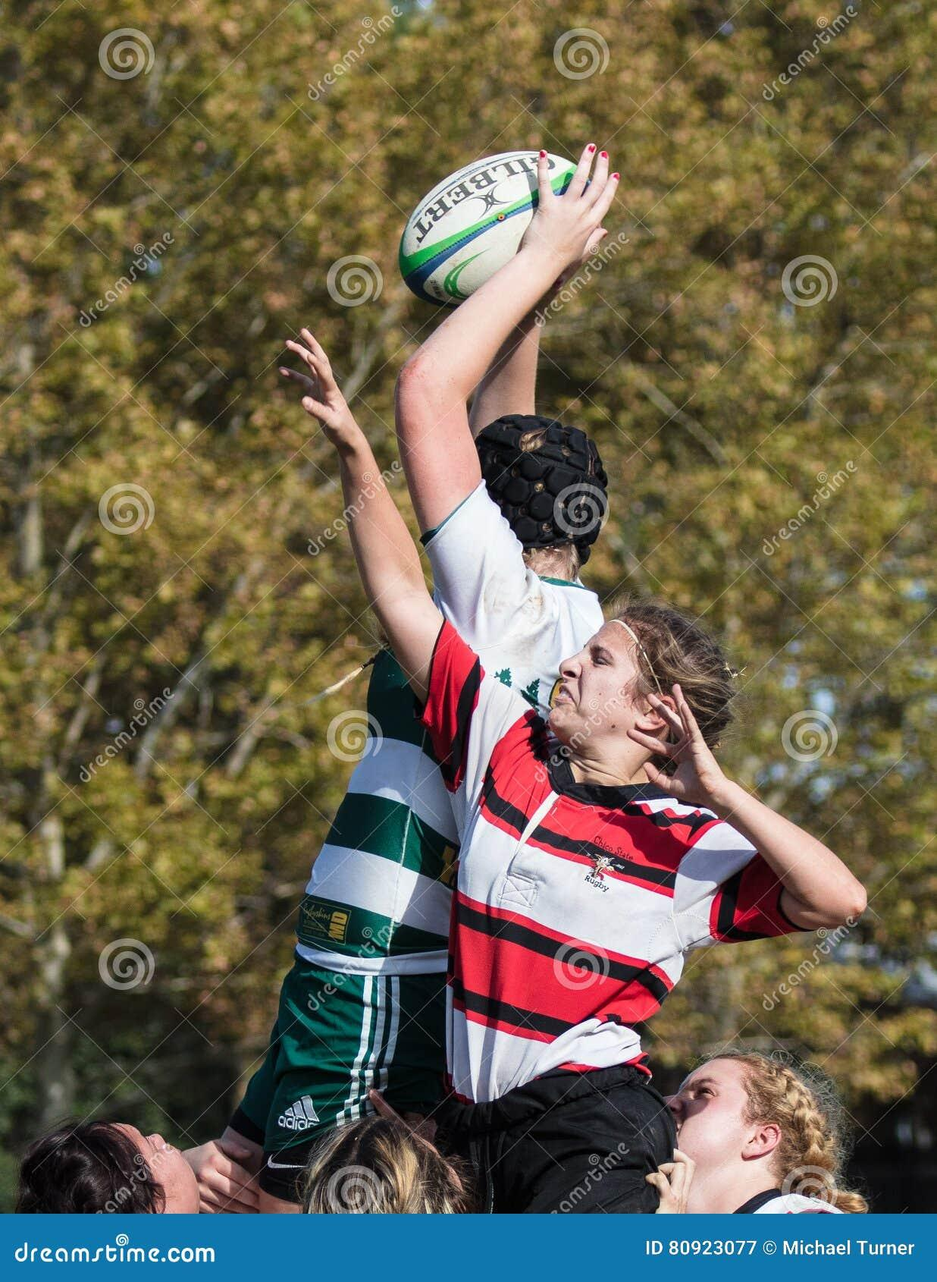ballon_rugby: (392, 131, 616, 332)
